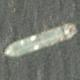ship: (2, 5, 79, 60)
